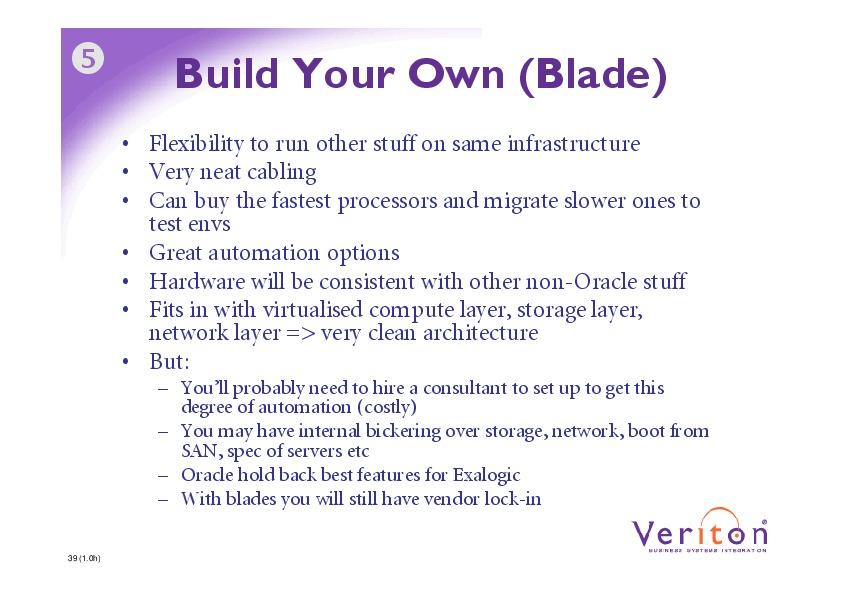paragraph: (114, 118, 749, 515)
subtitle: (627, 518, 793, 558)
title: (162, 35, 683, 120)
